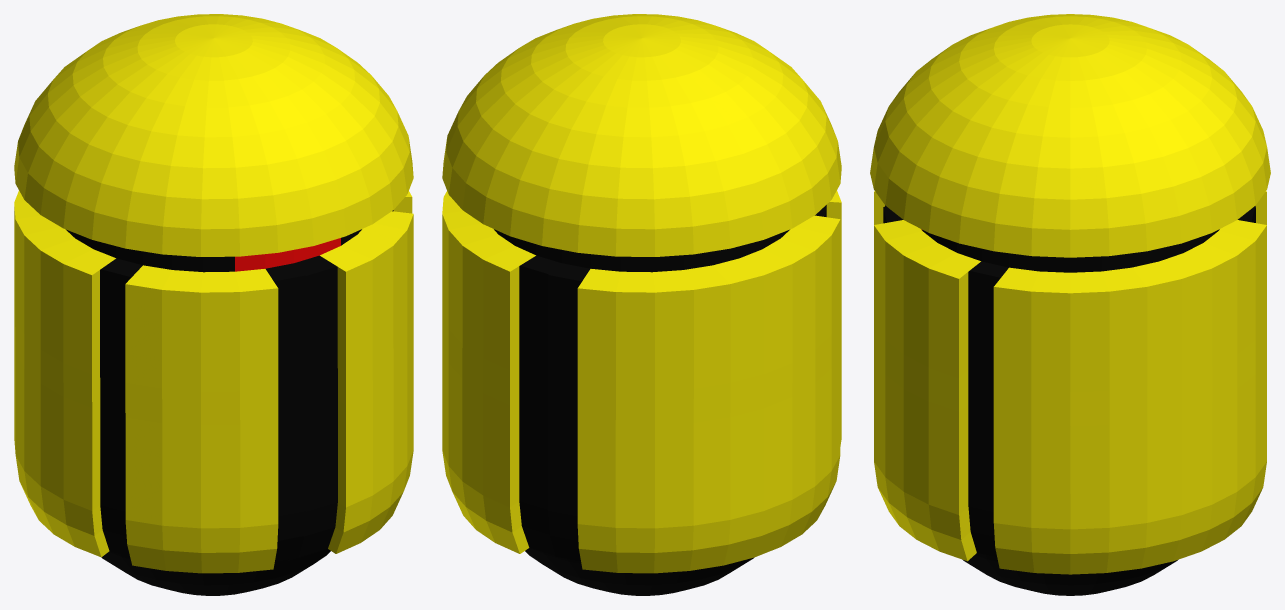
File: BigMeleeT1.glb
The picture shows the model from 3 angles, left to right: view 1: azimuth 30°, elevation 25°; view 2: azimuth 150°, elevation 25°; view 3: azimuth 270°, elevation 25°; orthographic projection.
Parts seen in each view (by area): view 1: BigMeleeT1; view 2: BigMeleeT1; view 3: BigMeleeT1.
Boxes of the visible parts, box(x1,y1,x2,y2) form: BigMeleeT1: box(14, 14, 413, 595); BigMeleeT1: box(442, 14, 841, 595); BigMeleeT1: box(870, 14, 1270, 595).
Size of the model in its own units: 2 by 2.98 by 2.
